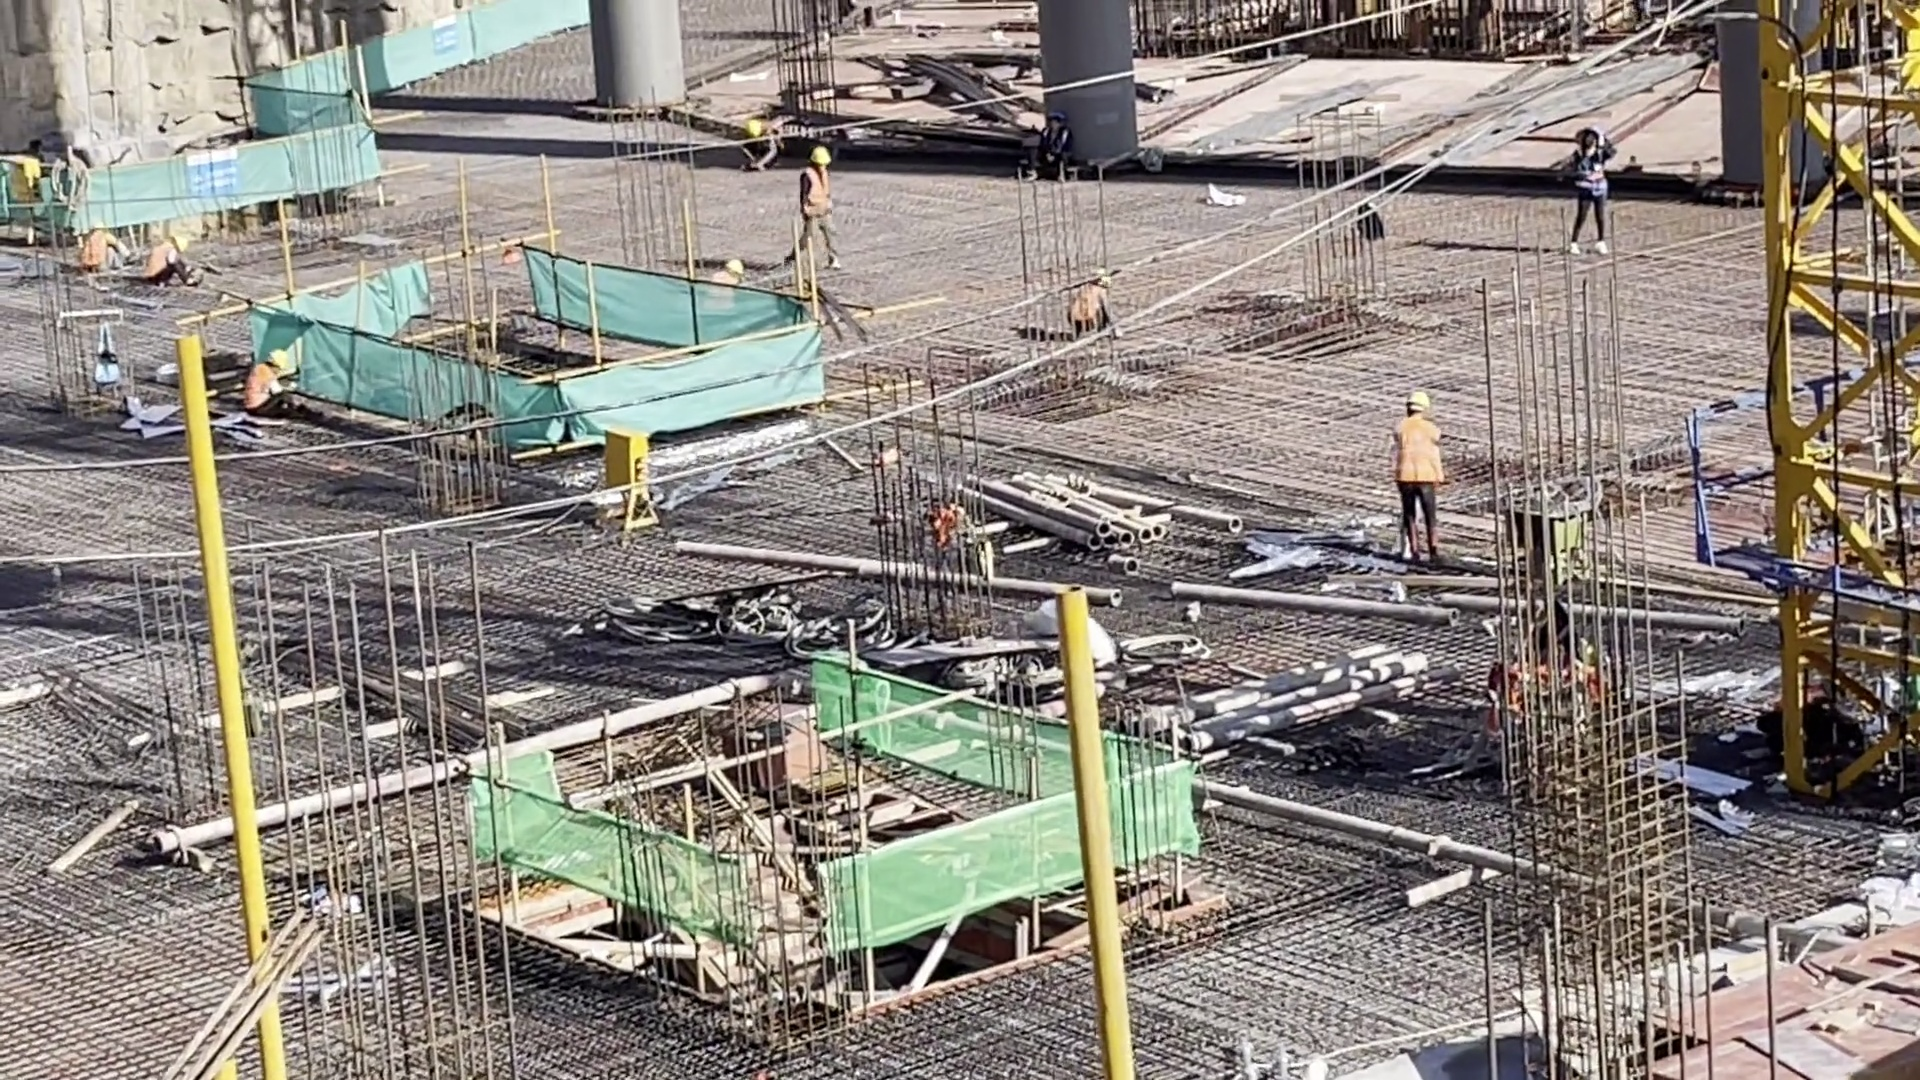helmet: (809, 147, 836, 169), (1404, 392, 1432, 409), (266, 351, 289, 369), (171, 237, 189, 253), (726, 258, 743, 275), (745, 123, 760, 138)
person: (1388, 387, 1452, 576), (795, 141, 848, 278), (1564, 126, 1618, 260), (244, 346, 295, 420), (140, 235, 203, 291), (80, 220, 136, 282), (1029, 112, 1075, 185), (1069, 276, 1122, 339), (707, 256, 745, 322), (738, 122, 785, 168)
vest: (1394, 414, 1439, 483), (801, 168, 832, 218), (245, 365, 275, 410), (1074, 285, 1101, 320), (82, 233, 111, 267), (145, 242, 172, 278)
